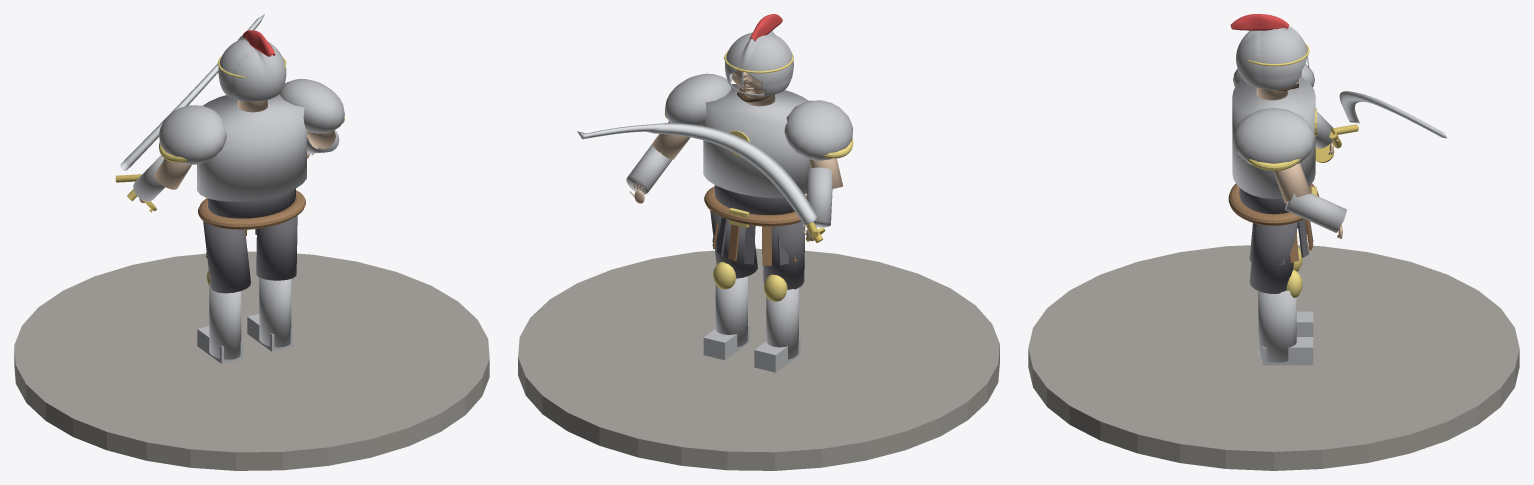
The model's file is warrior_model.glb.
The picture shows the model from 3 angles, left to right: view 1: azimuth 30°, elevation 25°; view 2: azimuth 150°, elevation 25°; view 3: azimuth 270°, elevation 25°; orthographic projection. The views are drawn at different scales.
Visible parts, largest first — view 1: Stone_Pedestal, Warrior_Cuirass, Warrior_Helmet, Warrior_Pauldron_R, Warrior_Thigh_R, Warrior_Pauldron_L, Warrior_Thigh_L, Warrior_Shin_R, Warrior_Shin_L, Warrior_Belt, Warrior_Ab_Armor, Talwar_Blade (+4 smaller); view 2: Stone_Pedestal, Warrior_Cuirass, Talwar_Blade, Warrior_Pauldron_R, Warrior_Helmet, Warrior_Pauldron_L, Warrior_Thigh_R, Warrior_Shin_R, Warrior_Shin_L, Warrior_Gauntlet_R, Warrior_Ab_Armor, Warrior_Thigh_L (+8 smaller); view 3: Stone_Pedestal, Warrior_Cuirass, Warrior_Pauldron_L, Warrior_Helmet, Warrior_Thigh_L, Warrior_Shin_L, Warrior_Gauntlet_L, Warrior_Belt, Talwar_Blade, Warrior_UpperArm_L, Warrior_Boot_L, Warrior_Helmet_Crest (+1 smaller).
Part boxes in pixels (left/top/right/bottom): Stone_Pedestal: left=14, top=251, right=489, bottom=470; Warrior_Cuirass: left=197, top=94, right=306, bottom=201; Warrior_Helmet: left=218, top=35, right=286, bottom=101; Warrior_Pauldron_R: left=159, top=105, right=226, bottom=164; Warrior_Thigh_R: left=203, top=221, right=250, bottom=293; Warrior_Pauldron_L: left=279, top=79, right=344, bottom=133; Warrior_Thigh_L: left=256, top=215, right=297, bottom=280; Warrior_Shin_R: left=209, top=282, right=241, bottom=359; Warrior_Shin_L: left=259, top=277, right=291, bottom=347; Warrior_Belt: left=198, top=190, right=305, bottom=229; Warrior_Ab_Armor: left=208, top=188, right=295, bottom=218; Talwar_Blade: left=120, top=14, right=264, bottom=170; Stone_Pedestal: left=518, top=248, right=999, bottom=470; Warrior_Cuirass: left=703, top=84, right=810, bottom=197; Talwar_Blade: left=577, top=123, right=817, bottom=224; Warrior_Pauldron_R: left=784, top=100, right=852, bottom=160; Warrior_Helmet: left=725, top=31, right=793, bottom=95; Warrior_Pauldron_L: left=665, top=73, right=731, bottom=125; Warrior_Thigh_R: left=763, top=221, right=805, bottom=289; Warrior_Shin_R: left=766, top=287, right=798, bottom=359; Warrior_Shin_L: left=715, top=276, right=747, bottom=347; Warrior_Gauntlet_R: left=806, top=167, right=832, bottom=227; Warrior_Ab_Armor: left=714, top=185, right=794, bottom=214; Warrior_Thigh_L: left=710, top=210, right=757, bottom=278; Stone_Pedestal: left=1028, top=245, right=1519, bottom=470; Warrior_Cuirass: left=1232, top=77, right=1315, bottom=198; Warrior_Pauldron_L: left=1233, top=108, right=1314, bottom=164; Warrior_Helmet: left=1236, top=26, right=1307, bottom=89; Warrior_Thigh_L: left=1249, top=222, right=1297, bottom=293; Warrior_Shin_L: left=1258, top=290, right=1296, bottom=362; Warrior_Gauntlet_L: left=1285, top=193, right=1346, bottom=232; Warrior_Belt: left=1228, top=183, right=1319, bottom=225; Talwar_Blade: left=1339, top=91, right=1446, bottom=138; Warrior_UpperArm_L: left=1273, top=163, right=1310, bottom=203; Warrior_Boot_L: left=1262, top=337, right=1313, bottom=365; Warrior_Helmet_Crest: left=1230, top=14, right=1288, bottom=30.
Size of the model in its own units: 2.8 by 2.22 by 2.8.
